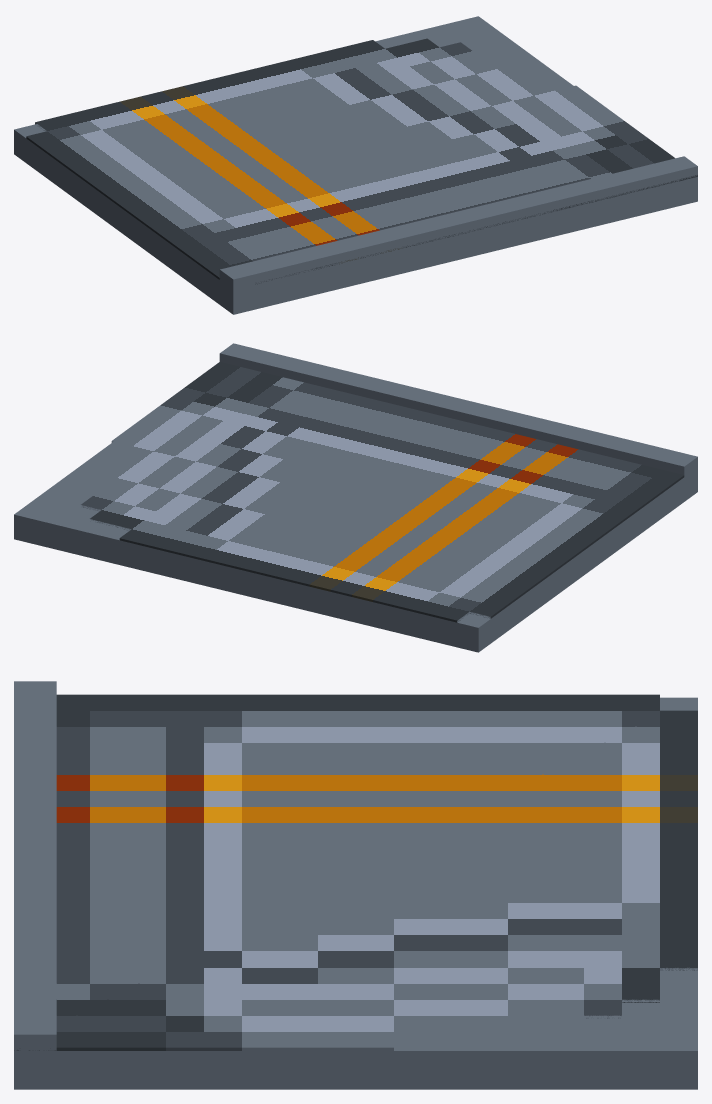
File: CMU3DReduxCMBedsheetGrayOrange.glb
The picture shows the model from 3 angles, top to bottom: view 1: azimuth 30°, elevation 25°; view 2: azimuth 150°, elevation 25°; view 3: azimuth 270°, elevation 25°; orthographic projection. The views are drawn at different scales.
Parts seen in each view (by area): view 1: source upper face, closed object body, folded cloth edge; view 2: source upper face, closed object body, folded cloth edge; view 3: source upper face, closed object body, folded cloth edge.
Boxes of the visible parts, <box> form: source upper face: <box>26,38,697,284</box>; closed object body: <box>14,16,697,314</box>; folded cloth edge: <box>219,156,697,314</box>; source upper face: <box>81,362,684,622</box>; closed object body: <box>14,442,697,652</box>; folded cloth edge: <box>219,343,697,501</box>; source upper face: <box>14,694,697,1050</box>; closed object body: <box>14,697,697,1089</box>; folded cloth edge: <box>14,681,56,1089</box>.
Size of the model in its own units: 0.6875 by 0.05 by 0.5625.
2 materials, 1 textured.
